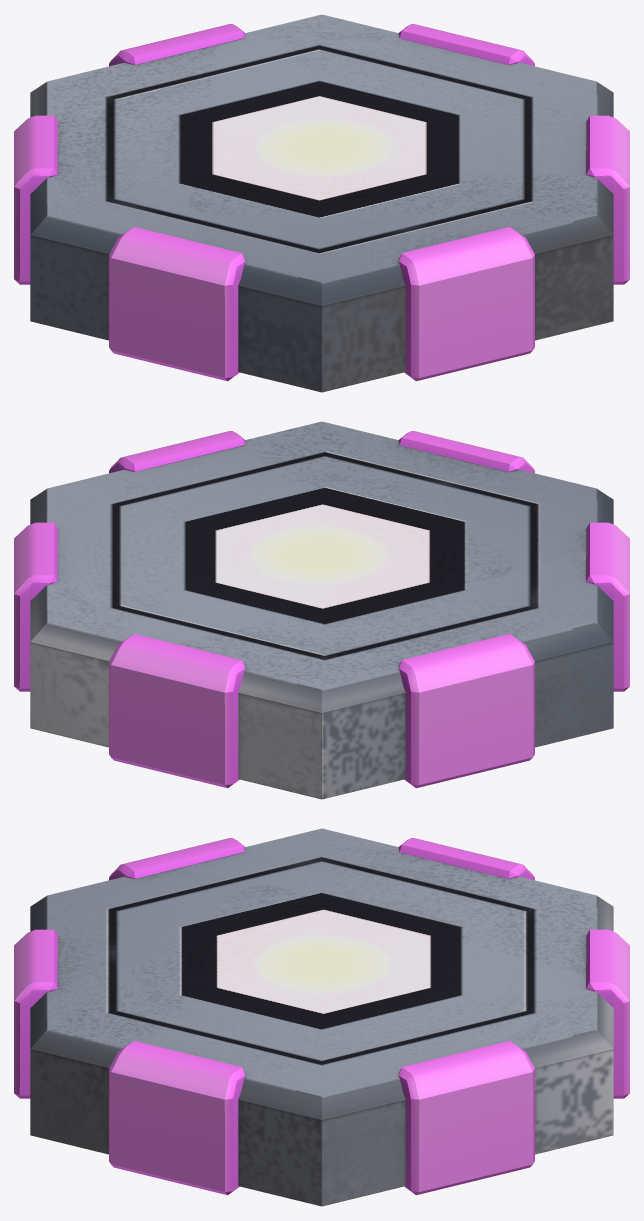
File: HexagonPlatformSmall01_Art.glb
The picture shows the model from 3 angles, top to bottom: view 1: azimuth 30°, elevation 25°; view 2: azimuth 150°, elevation 25°; view 3: azimuth 270°, elevation 25°; orthographic projection.
Visible parts, largest first — view 1: HexagonPlatformSmall01_Art; view 2: HexagonPlatformSmall01_Art; view 3: HexagonPlatformSmall01_Art.
Boxes of the visible parts, <box> form: HexagonPlatformSmall01_Art: <box>14,14,629,392</box>; HexagonPlatformSmall01_Art: <box>14,421,629,799</box>; HexagonPlatformSmall01_Art: <box>14,828,629,1206</box>.
Bounding box in the file's own units: 6 × 1.13 × 5.49.
1 material, 1 textured.
